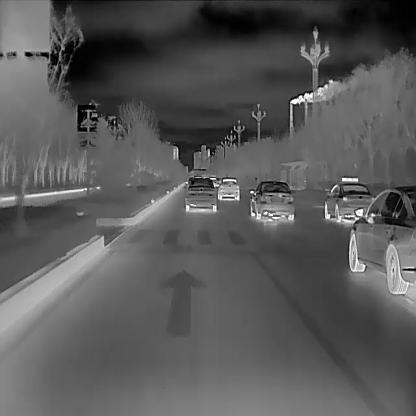car: (348, 187, 415, 295), (324, 175, 372, 222), (248, 180, 294, 222), (185, 176, 216, 212), (217, 177, 239, 200)
